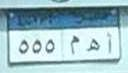5: (16, 39, 30, 55), (44, 38, 56, 55), (32, 39, 42, 56)
alif: (105, 32, 113, 54)
haa: (84, 37, 100, 54)
meem: (69, 34, 81, 55)
